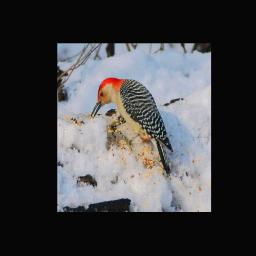Woodpecker: (90, 77, 175, 180)
